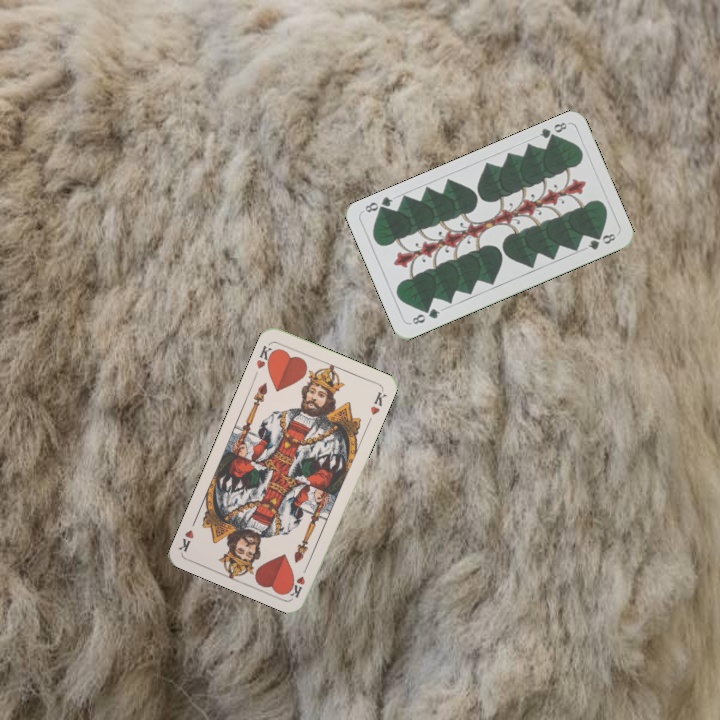G8: (535, 118, 569, 144), (406, 304, 442, 327)
HK: (286, 561, 311, 600), (252, 340, 278, 371)
